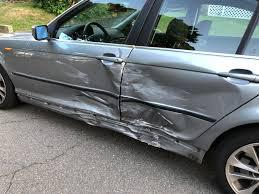RunningBoard-Dent: (114, 123, 181, 148), (44, 107, 108, 128)
doorouter-dent: (121, 49, 230, 121), (36, 45, 121, 107)
